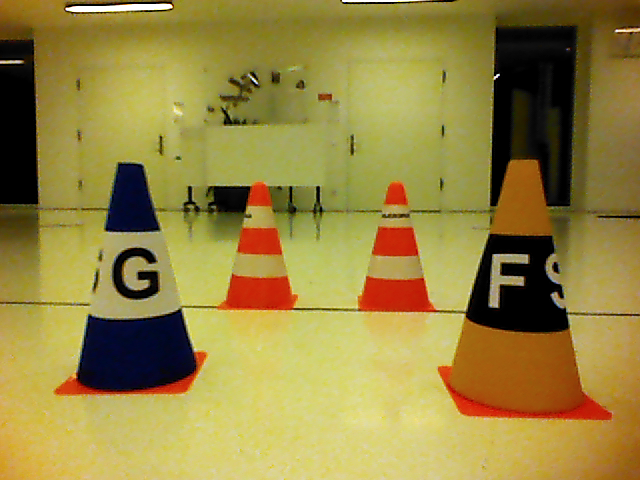bluecone: (74, 162, 198, 391)
orangeconesmall: (361, 181, 432, 308), (225, 181, 292, 307)
yellowcone: (450, 158, 587, 415)
